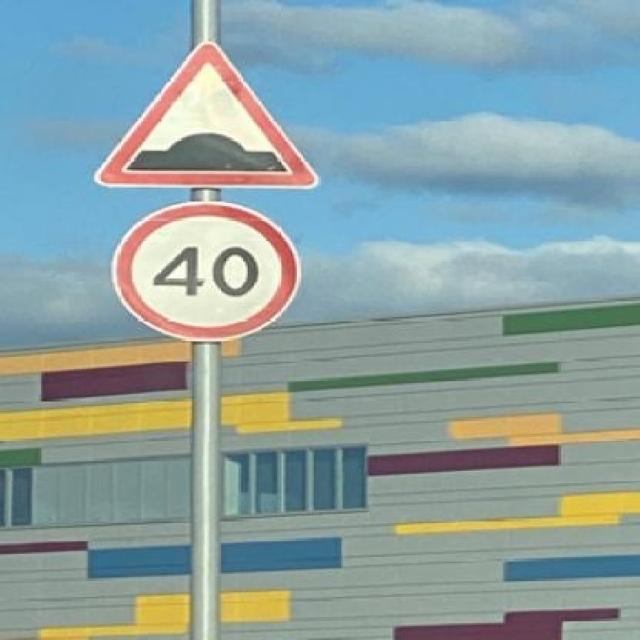forb_speed_over_40: (111, 204, 300, 342)
